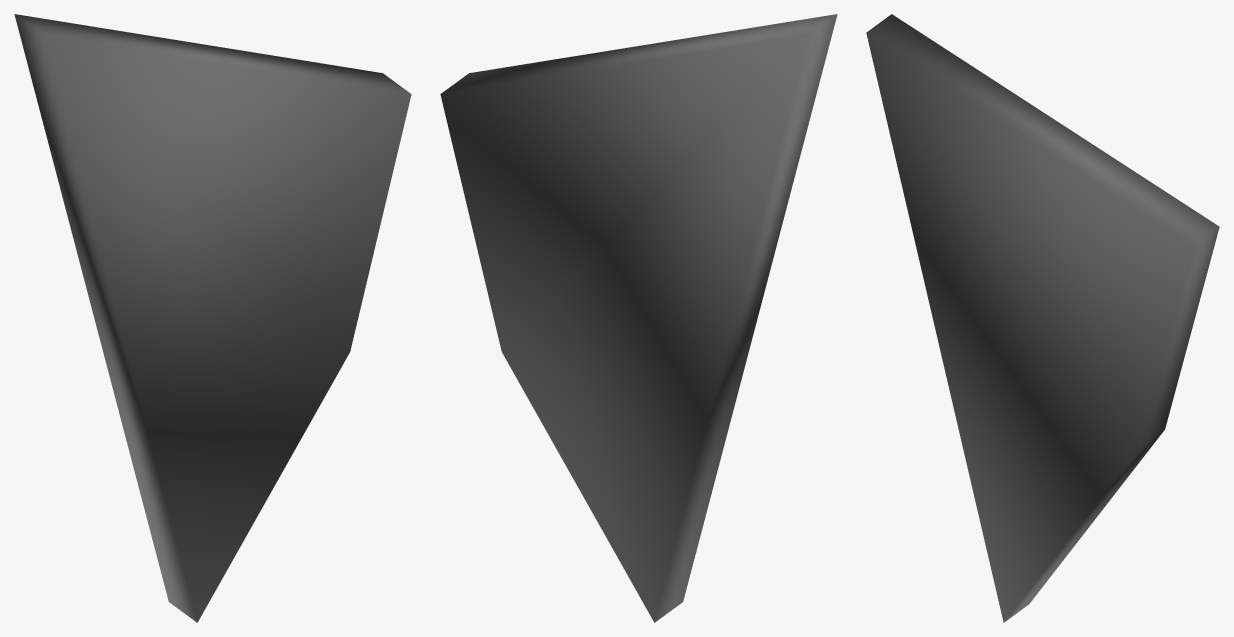
Rendered from Shard.fbx.
The picture shows the model from 3 angles, left to right: view 1: azimuth 30°, elevation 25°; view 2: azimuth 150°, elevation 25°; view 3: azimuth 330°, elevation 25°; orthographic projection. The views are drawn at different scales.
Visible parts, largest first — view 1: Shard; view 2: Shard; view 3: Shard.
Part boxes in pixels (x1,y1,x2,y2): Shard: (14,14,411,622); Shard: (440,14,837,622); Shard: (866,14,1219,622).
Size of the model in its own units: 7.42 by 12.04 by 1.
1 material, 1 textured.
